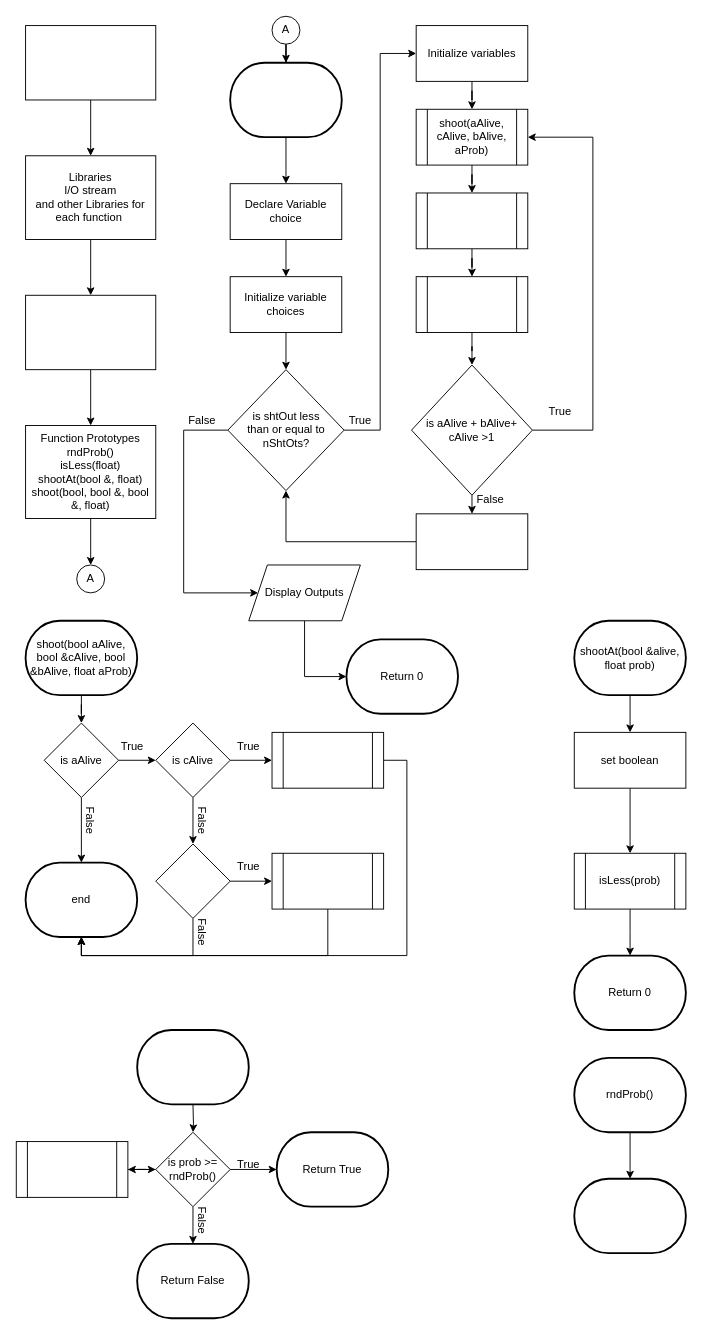
Some shapes in this 703 by 1335 pixel diagram are drawn without their labels. The shapes that lost their labels are listed below. From the top down, each one's centre as x and y in pixels, then its label:
point (90, 62): Comments Name: Dr. Mark E. Lehr Date: 01/28/20 Purpose: Shoot Out
point (285, 99): Shoot Out V4
point (471, 220): shoot(bAlive, cAlive, aAlive, bProb)
point (471, 304): shoot(cAlive, bALive, aAlive, cProb)
point (90, 332): Global Constant None
point (471, 541): Increment variables
point (327, 759): shootAt(cAlive, aProb)
point (192, 880): is bAlive
point (327, 880): shootAt(bAlive, aProb)
point (192, 1067): isLess(float prob)
point (71, 1169): rndProb
point (629, 1215): return 1.0*f*rand() /(pow(2,31)-1)
